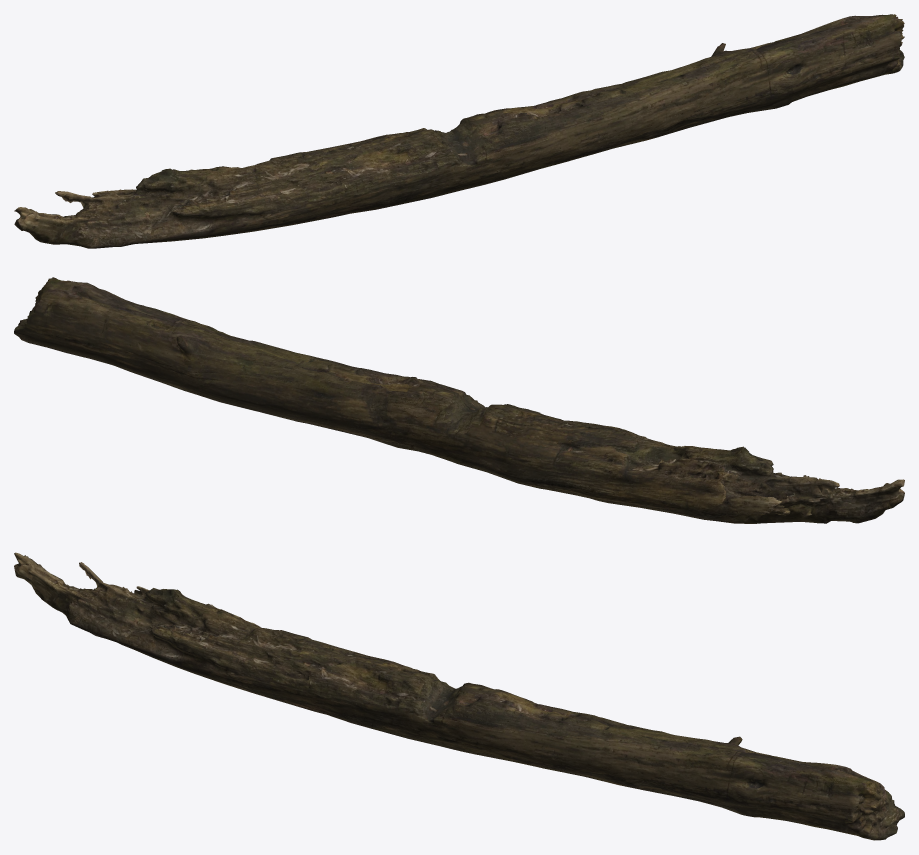
The model's file is dead_tree_trunk.glb.
3 views of the same model, one above another, from view 1: azimuth 30°, elevation 25°; view 2: azimuth 150°, elevation 25°; view 3: azimuth 330°, elevation 25° (orthographic).
Parts seen in each view (by area): view 1: dead_tree_trunk; view 2: dead_tree_trunk; view 3: dead_tree_trunk.
Boxes of the visible parts, x1=… form: dead_tree_trunk: x1=14, y1=14, x2=904, y2=248; dead_tree_trunk: x1=14, y1=277, x2=904, y2=523; dead_tree_trunk: x1=14, y1=552, x2=904, y2=840.
Size of the model in its own units: 3.05 by 0.2898 by 0.2775.
Materials: 1 (1 with a texture image).
